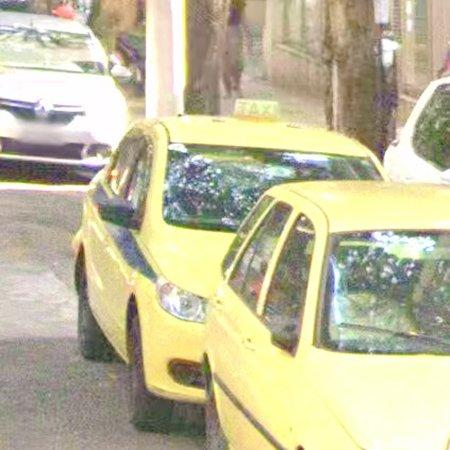taxis: (74, 99, 383, 433), (206, 181, 450, 450)
